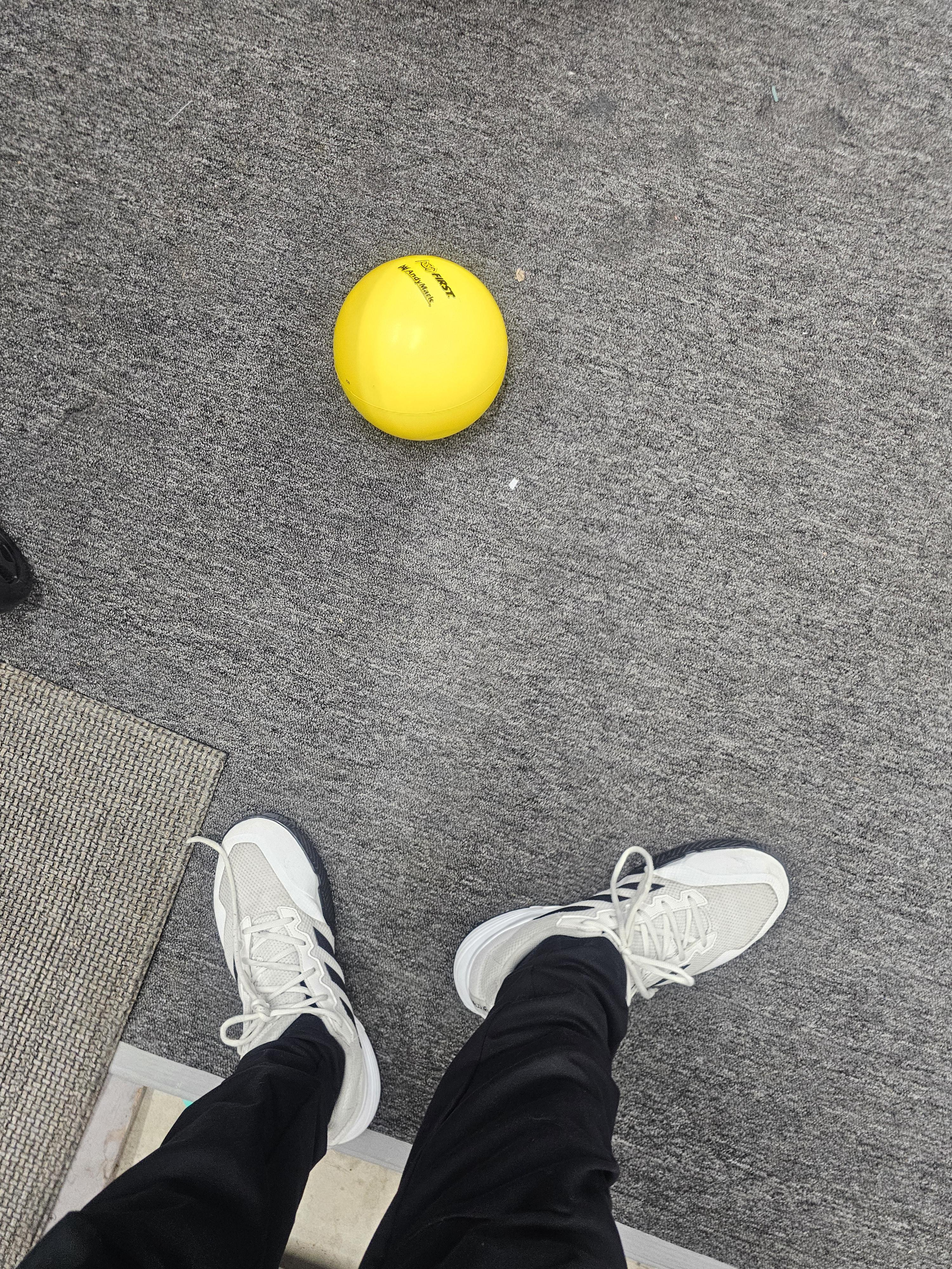fuel: (317, 242, 529, 458)
